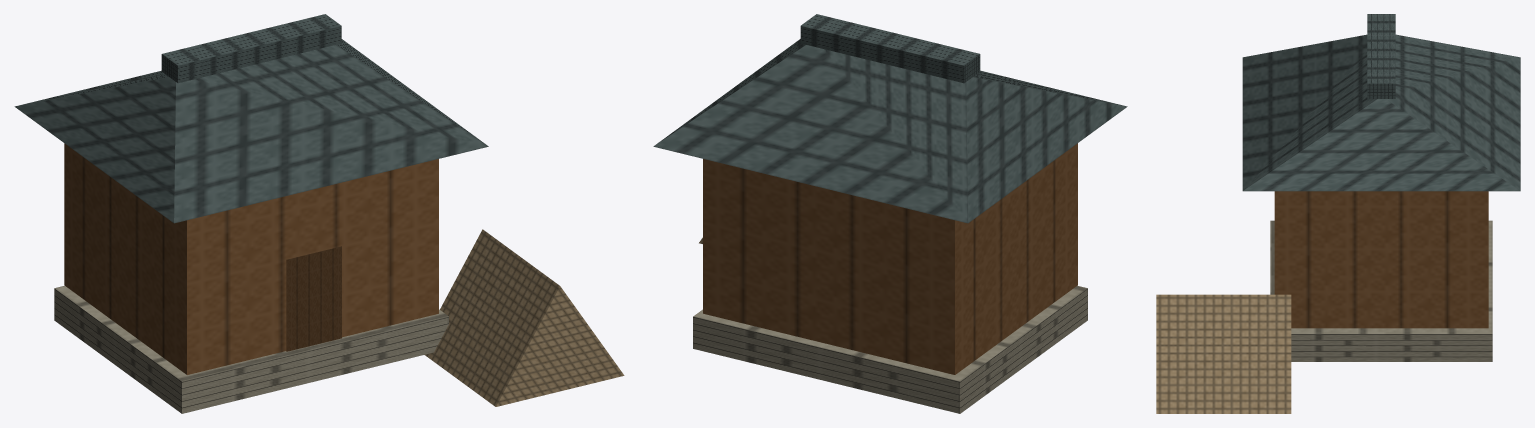
The model's file is domestic-BARRACKS-1-lod2.glb.
3 renders of one model, left to right at view 1: azimuth 30°, elevation 25°; view 2: azimuth 150°, elevation 25°; view 3: azimuth 270°, elevation 25°, orthographic. The views are drawn at different scales.
Size of the model in its own units: 0.7163 by 0.513 by 0.647.
1 material, 1 textured.
